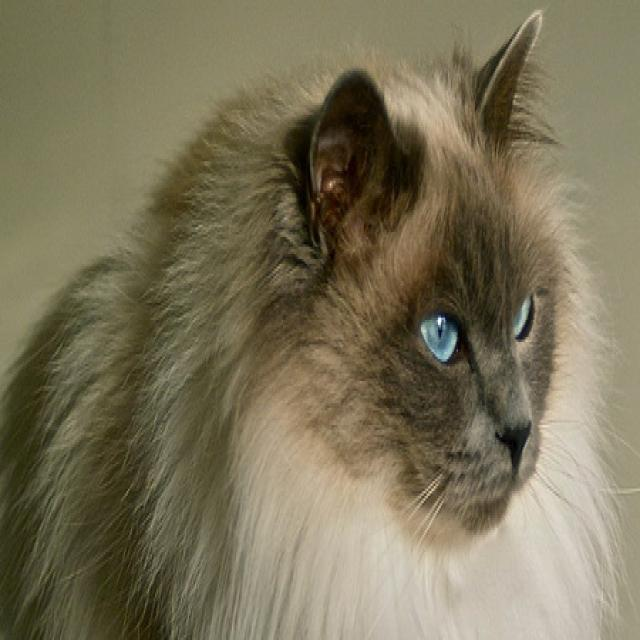Ragdoll: (0, 5, 624, 640)
